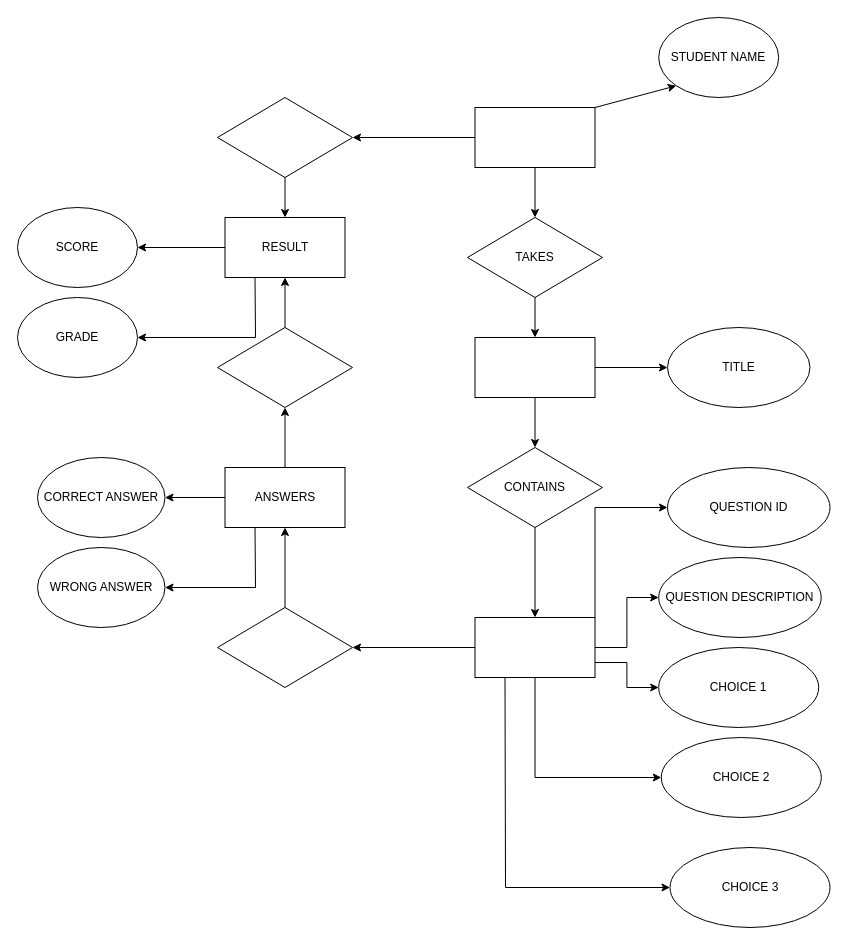
Some shapes in this 848 by 945 pixel diagram are drawn without their labels. Here are the shapes that lost their labels. From the top down, the centre of each, then its label:
At (284,137): "GETS".
At (534,137): "STUDENT".
At (284,367): "EVALUATES".
At (534,367): "QUIZ".
At (284,647): "HAS".
At (534,647): "QUESTIONS".
